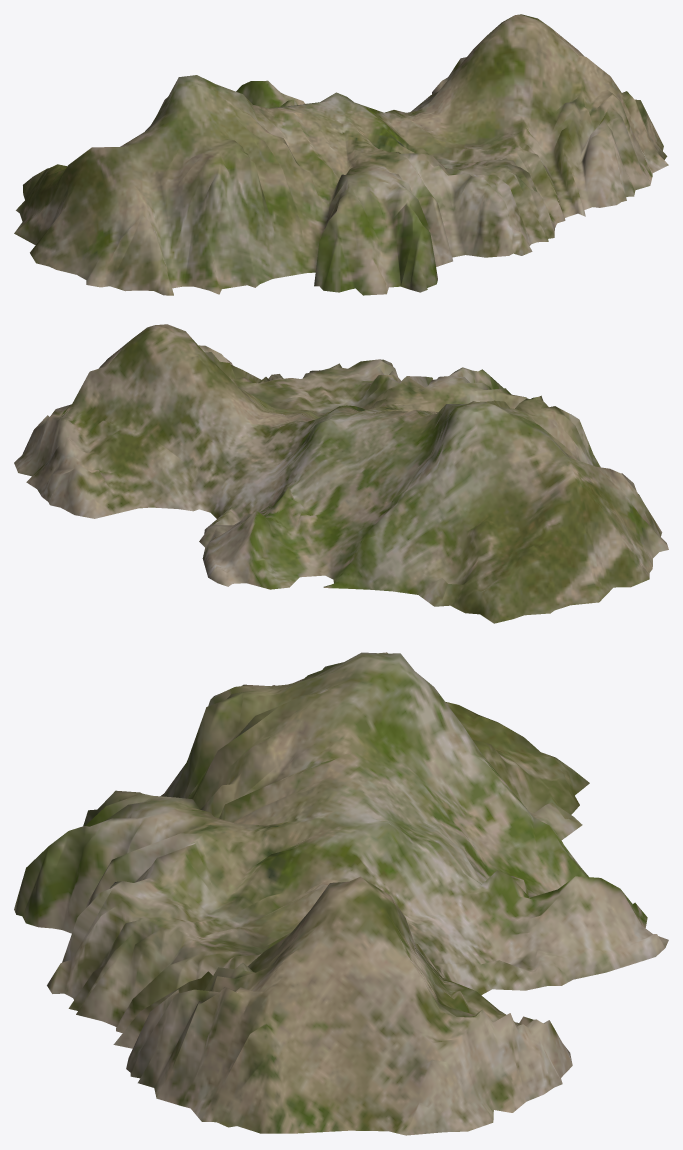
File: Mountain.fbx
The picture shows the model from 3 angles, top to bottom: view 1: azimuth 30°, elevation 25°; view 2: azimuth 150°, elevation 25°; view 3: azimuth 270°, elevation 25°; orthographic projection. The views are drawn at different scales.
Visible parts, largest first — view 1: LV_Lobby_MassiveLOD_A_GH02_SM_KWY; view 2: LV_Lobby_MassiveLOD_A_GH02_SM_KWY; view 3: LV_Lobby_MassiveLOD_A_GH02_SM_KWY.
Boxes of the visible parts, <box> form: LV_Lobby_MassiveLOD_A_GH02_SM_KWY: <box>14,14,668,295</box>; LV_Lobby_MassiveLOD_A_GH02_SM_KWY: <box>14,324,668,623</box>; LV_Lobby_MassiveLOD_A_GH02_SM_KWY: <box>14,652,668,1135</box>.
Bounding box in the file's own units: 168 × 37.11 × 116.
1 material, 1 textured.
